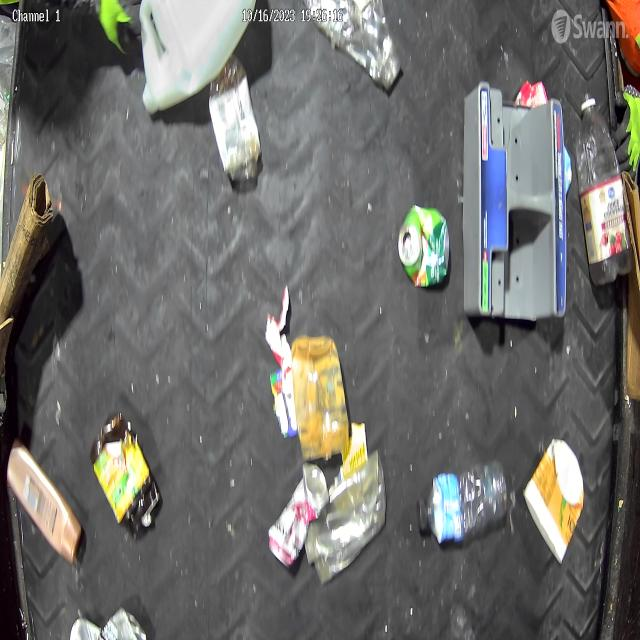can: (268, 460, 330, 572), (398, 201, 450, 290)
milk_jug: (138, 0, 256, 114)
non_white_jug: (7, 438, 82, 561)
plastic_bottle: (575, 89, 634, 288), (302, 0, 403, 96), (414, 456, 510, 546)
